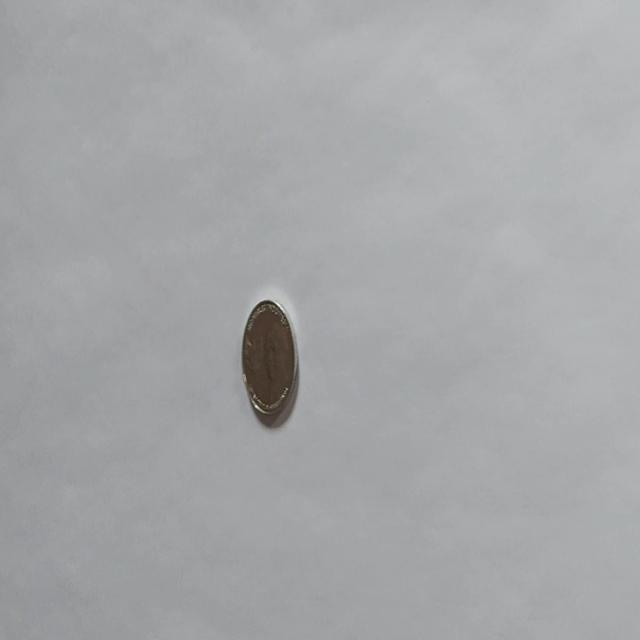lima ratus rupiah: (240, 297, 298, 424)
